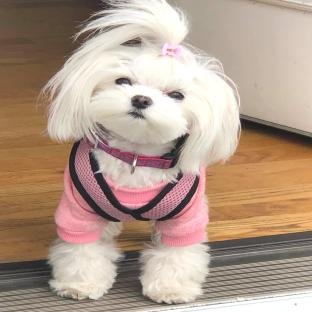Animal: (43, 0, 240, 303)
